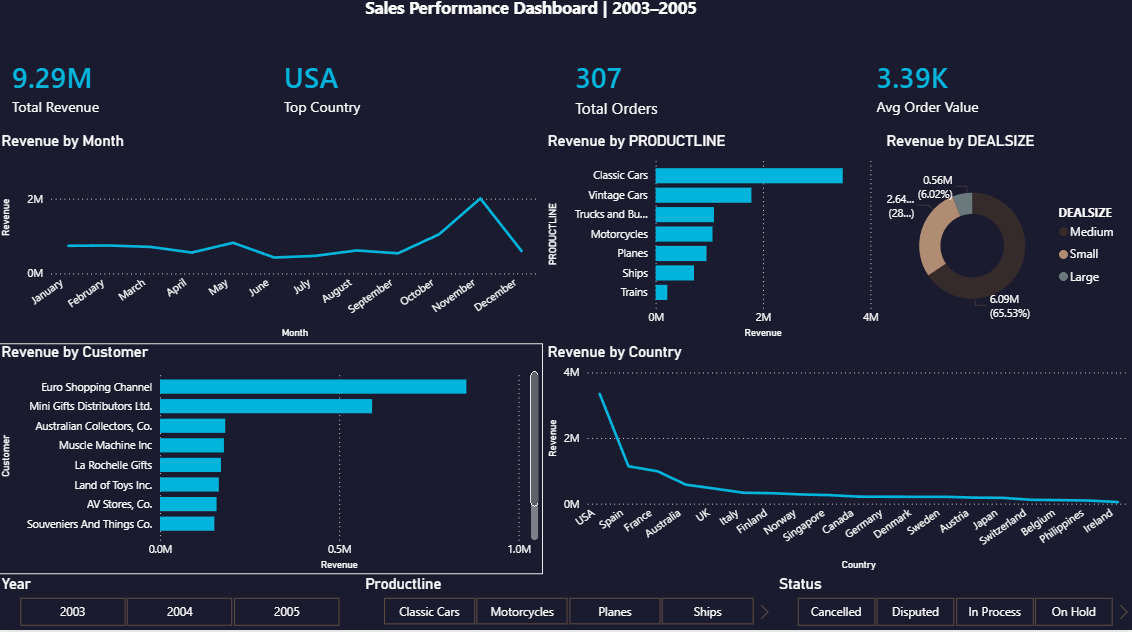

Layout of this report page (visuals, bound fields, positions):
{"tool":"powerbi","page":{"name":"Page 1","canvas":[1280,720],"ordinal":0},"visuals":[{"type":"cardVisual","fields":{"Data":["Sum(sales_cleaned.SALES)"]},"box":[0,54.9,274.4,102.9],"z":0},{"type":"cardVisual","fields":{"Data":["Count(sales_cleaned.ORDERNUMBER)"]},"box":[622.4,56.3,253.5,102.8],"z":1000},{"type":"cardVisual","fields":{"Data":["Avg(sales_cleaned.SALES)"]},"box":[961.8,54.9,318.2,102.8],"z":2000},{"type":"lineChart","fields":{"Category":["sales_cleaned.ORDERDATE.Variation.Date Hierarchy.Month"],"Y":["Sum(sales_cleaned.SALES)"]},"box":[0,157.8,614.8,237.4],"z":4000},{"type":"clusteredBarChart","fields":{"Category":["sales_cleaned.PRODUCTLINE"],"Y":["Sum(sales_cleaned.SALES)"]},"box":[614.8,157.8,382.8,237.4],"z":5000},{"type":"lineChart","fields":{"Y":["Sum(sales_cleaned.SALES)"],"Category":["sales_cleaned.COUNTRY"]},"box":[614.8,395.2,665.5,260.7],"z":6000},{"type":"clusteredBarChart","fields":{"Category":["sales_cleaned.CUSTOMERNAME"],"Y":["Sum(sales_cleaned.SALES)"]},"box":[0,395.2,614.8,260.7],"z":7000},{"type":"donutChart","fields":{"Category":["sales_cleaned.DEALSIZE"],"Y":["Sum(sales_cleaned.SALES)"]},"box":[997.6,157.8,282.7,237.4],"z":8000},{"type":"slicer","title":"Year","fields":{"Values":["sales_cleaned.YEAR"]},"box":[0,656.2,409.8,64.8],"z":8001},{"type":"slicer","title":"Productline","fields":{"Values":["sales_cleaned.PRODUCTLINE"]},"box":[409.8,656.2,466.1,63.4],"z":8002},{"type":"slicer","title":"Status","fields":{"Values":["sales_cleaned.STATUS"]},"box":[875.5,655.9,404.8,64.5],"z":8003},{"type":"textbox","box":[409.8,0,408.4,40.8],"z":8004},{"type":"cardVisual","fields":{"Data":["sales_cleaned.Top Country"]},"box":[294.3,54.9,204.2,102.8],"z":8005}]}

Visuals, with their boxes in screenshot pixels (x1, y1, x2, y2), scaled from the page's 1280x720 canvas onto the 1132x632 screenshot:
cardVisual - Sum(sales_cleaned.SALES): rect(0, 48, 243, 139)
cardVisual - Count(sales_cleaned.ORDERNUMBER): rect(550, 49, 775, 140)
cardVisual - Avg(sales_cleaned.SALES): rect(851, 48, 1131, 138)
lineChart - sales_cleaned.ORDERDATE.Variation.Date Hierarchy.Month x Sum(sales_cleaned.SALES): rect(0, 139, 544, 347)
clusteredBarChart - sales_cleaned.PRODUCTLINE x Sum(sales_cleaned.SALES): rect(544, 139, 882, 347)
lineChart - Sum(sales_cleaned.SALES) x sales_cleaned.COUNTRY: rect(544, 347, 1131, 576)
clusteredBarChart - sales_cleaned.CUSTOMERNAME x Sum(sales_cleaned.SALES): rect(0, 347, 544, 576)
donutChart - sales_cleaned.DEALSIZE x Sum(sales_cleaned.SALES): rect(882, 139, 1131, 347)
"Year" slicer: rect(0, 576, 362, 631)
"Productline" slicer: rect(362, 576, 775, 631)
"Status" slicer: rect(774, 576, 1131, 631)
textbox: rect(362, 0, 724, 36)
cardVisual - sales_cleaned.Top Country: rect(260, 48, 441, 138)
